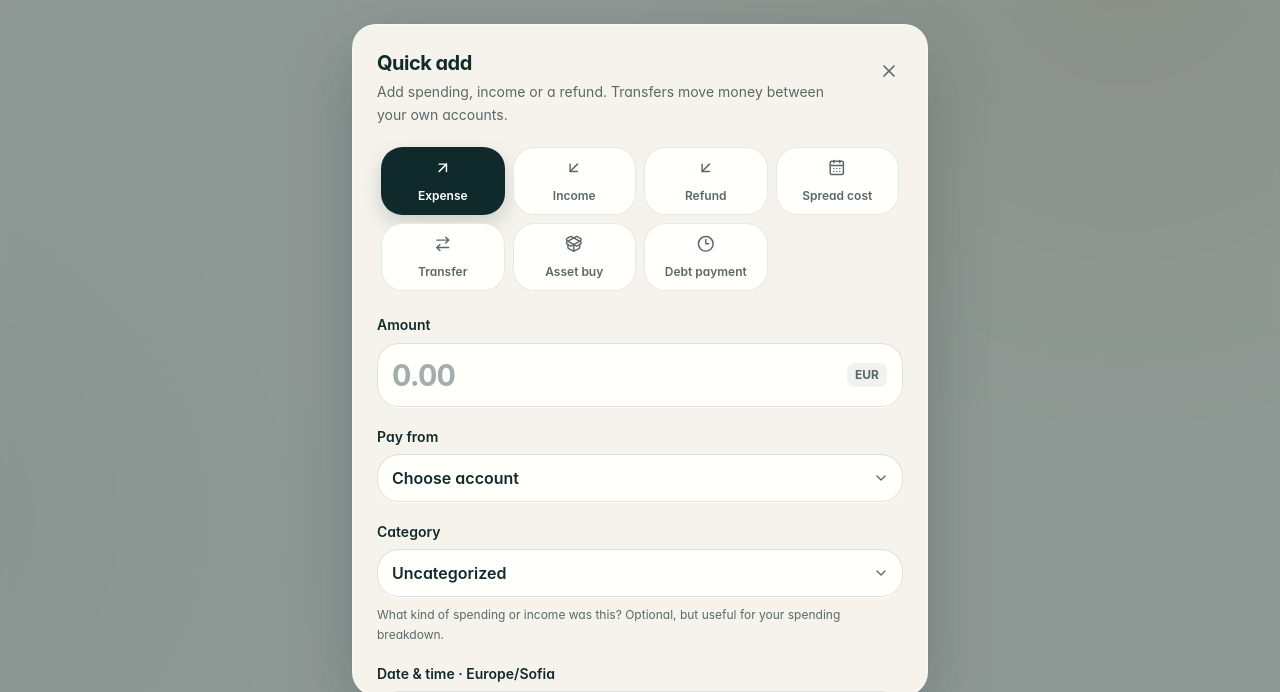
Scenario: quick entry › shows transaction-specific amortization and transfer controls
Click the radio button labelled "Spread cost".
click(837, 181)  # box top-left (776, 147), bottom-right (899, 215)
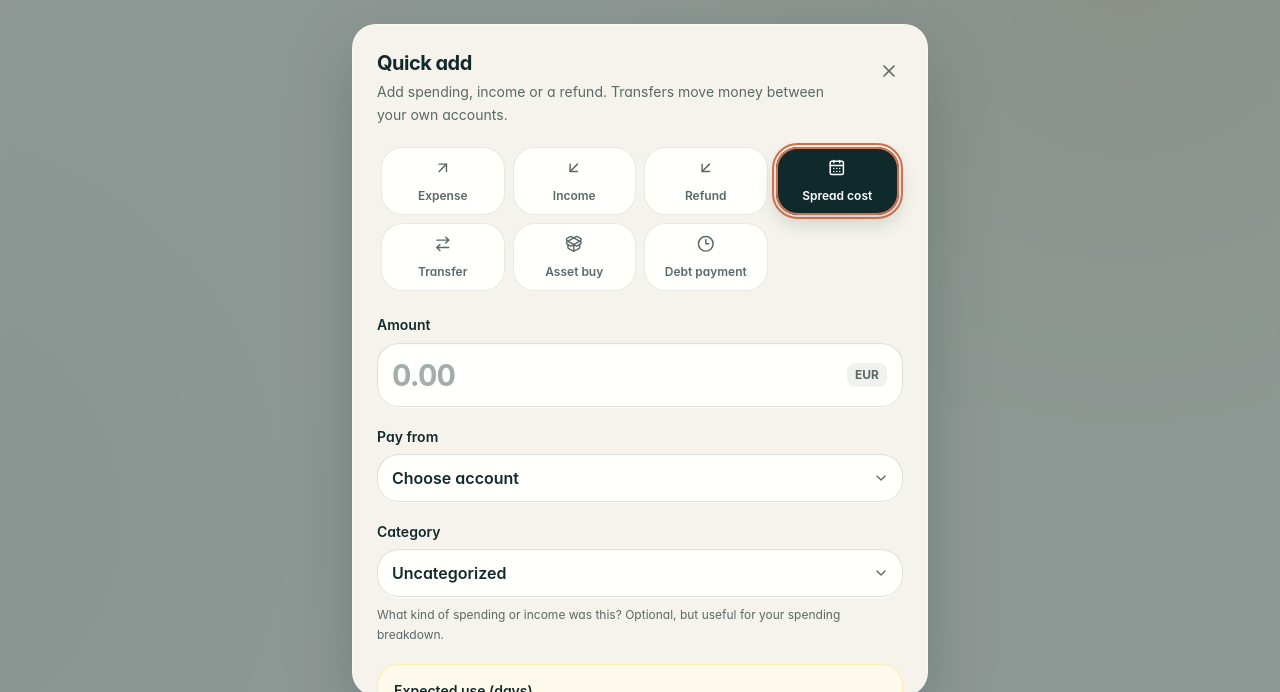
Click the radio button labelled "Transfer".
click(443, 257)  # box top-left (381, 223), bottom-right (504, 291)
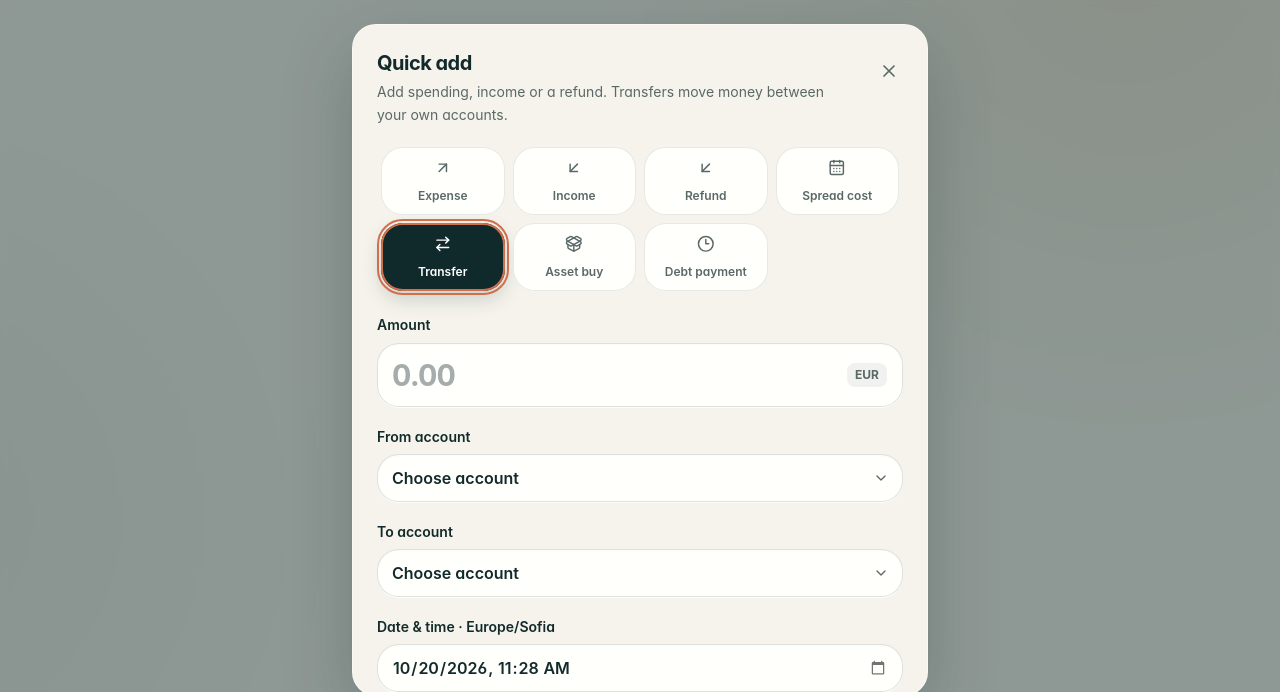
Expected: the dropdown labelled "To account" is shown, top-left (377, 549), bottom-right (903, 597)
Select "Cash · EUR" in the dropdown labelled "From account" at (640, 478), box top-left (377, 454), bottom-right (903, 502)
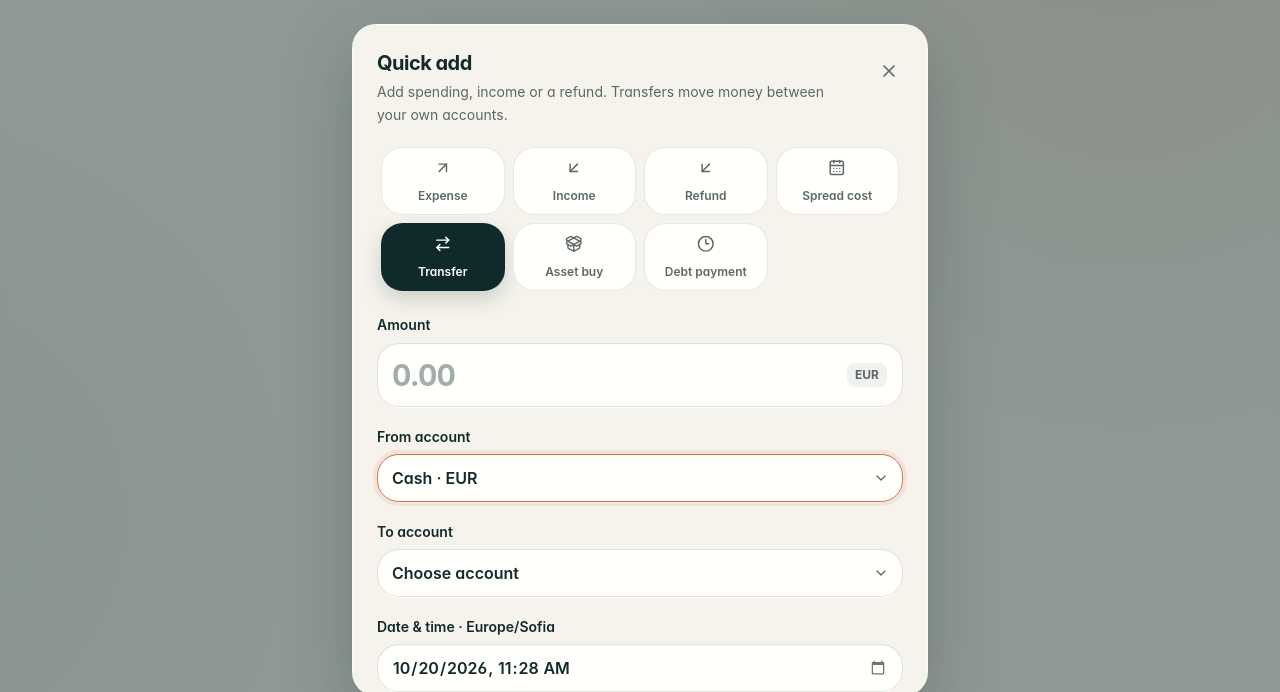
Select "Cash · EUR" in the dropdown labelled "To account" at (640, 573), box top-left (377, 549), bottom-right (903, 597)
(page scrolled)
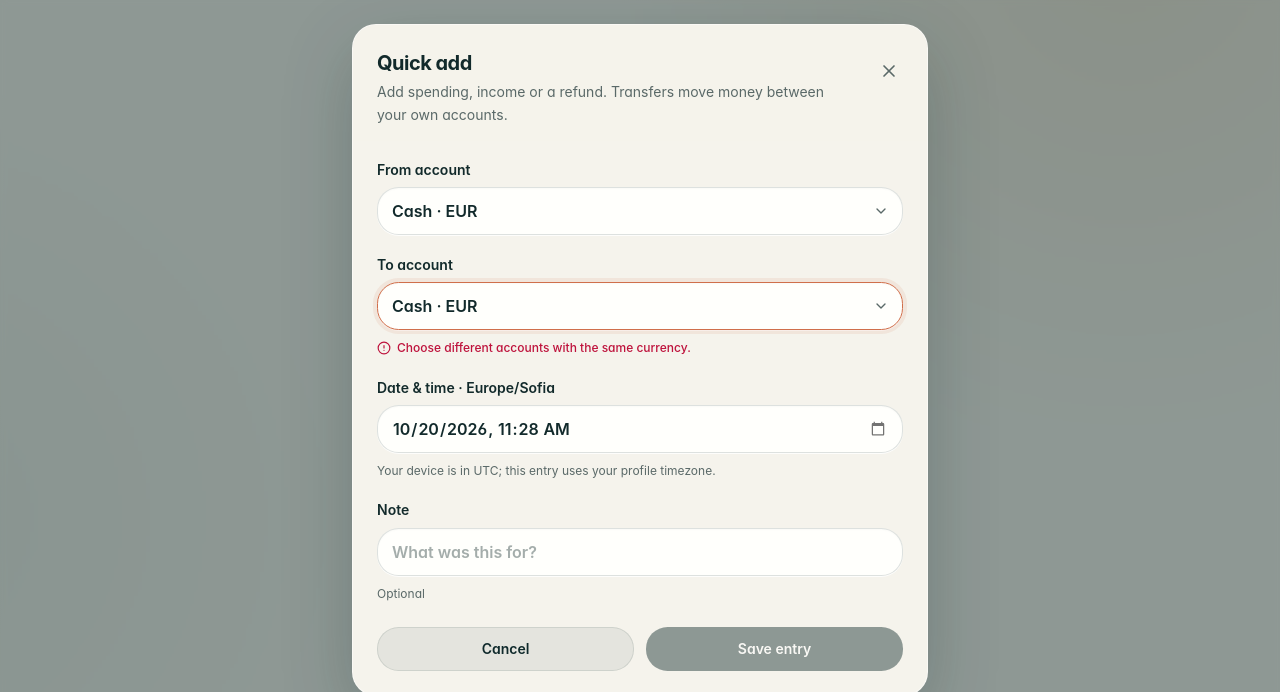
Now the text "Choose different accounts with the same currency." is shown, box top-left (377, 340), bottom-right (691, 355)
Now the button "Save entry" is disabled, box top-left (646, 627), bottom-right (903, 671)
